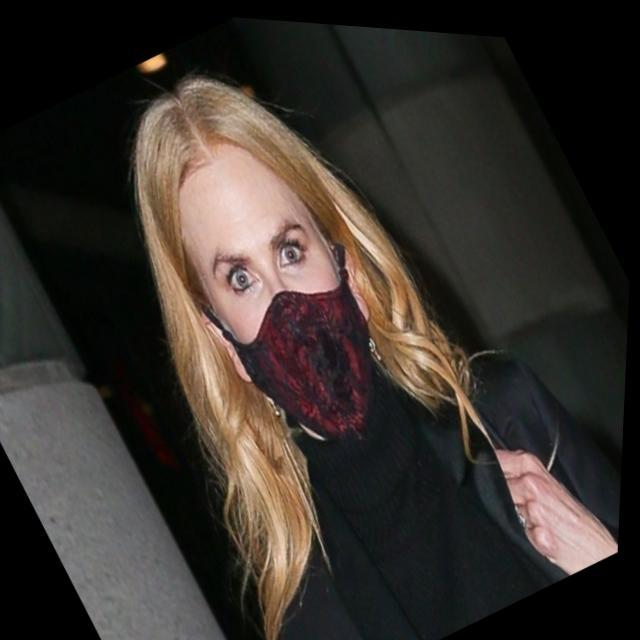Nonhelmet: (129, 69, 419, 450)
